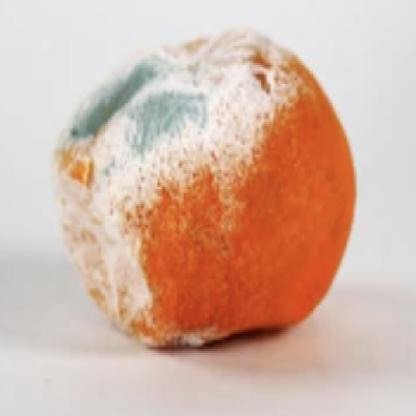rotten: (58, 27, 358, 352)
